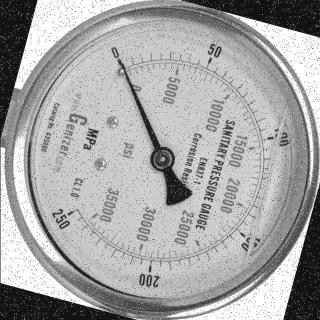gauge: (0, 0, 320, 320), (49, 196, 85, 232), (100, 45, 139, 78), (150, 147, 176, 172), (114, 56, 128, 70)
